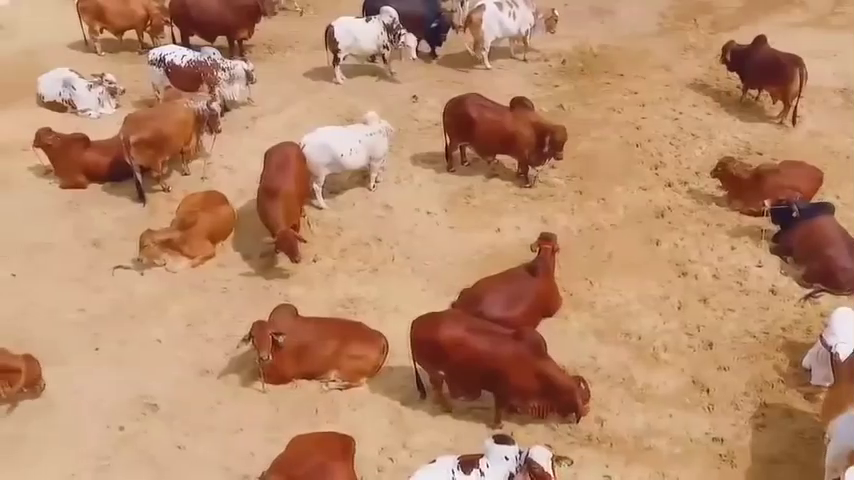bo: (399, 307, 601, 434), (442, 216, 586, 350), (224, 286, 401, 394), (422, 73, 565, 172), (114, 83, 228, 190), (247, 134, 323, 283), (713, 22, 819, 123), (379, 427, 579, 480), (297, 105, 402, 205), (758, 192, 854, 295), (128, 187, 242, 271), (143, 41, 260, 122), (793, 325, 854, 480), (15, 109, 129, 190), (243, 419, 390, 480), (703, 144, 824, 213), (65, 1, 179, 66), (458, 4, 568, 69), (24, 56, 130, 118), (162, 1, 281, 54), (801, 305, 854, 381), (1, 341, 54, 417)
